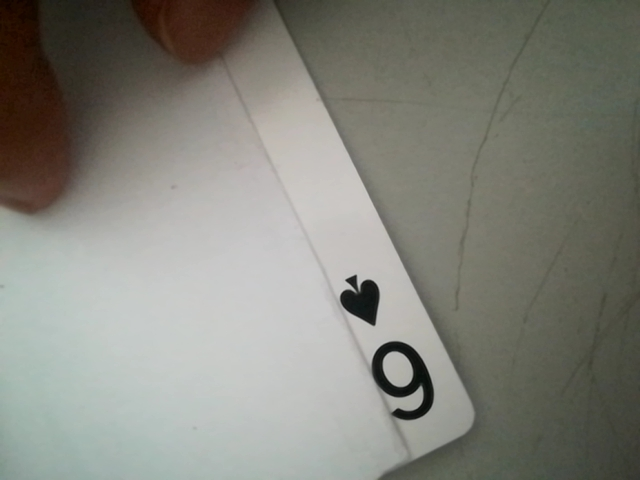ht 6: (329, 261, 456, 437)
